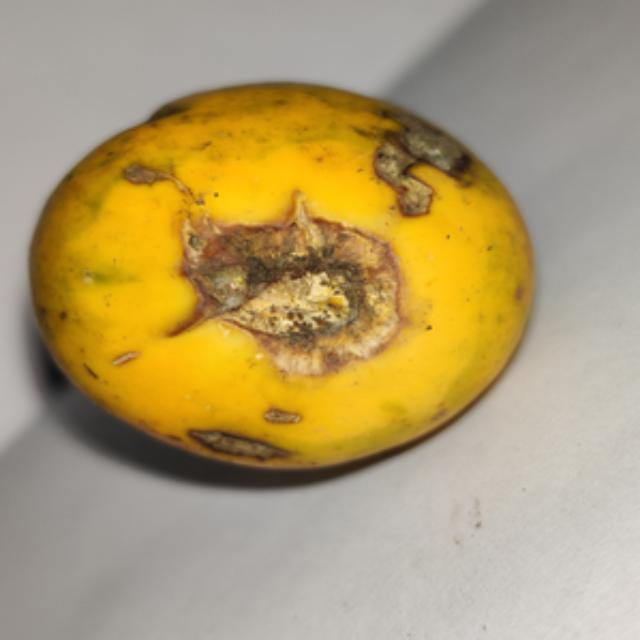damaged: (30, 86, 537, 475)
